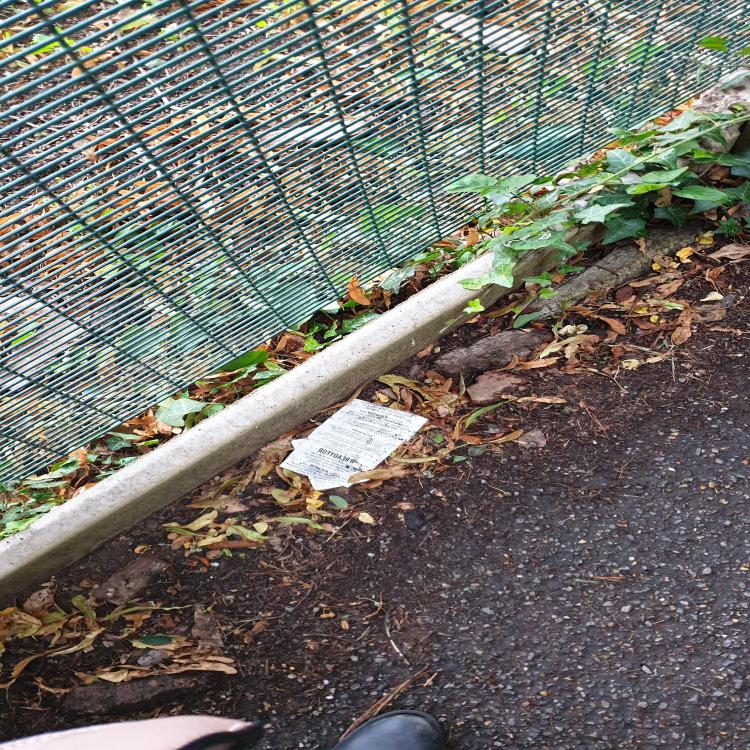Normal paper: (279, 398, 429, 488)
Unlabeled litter: (306, 476, 340, 490)
